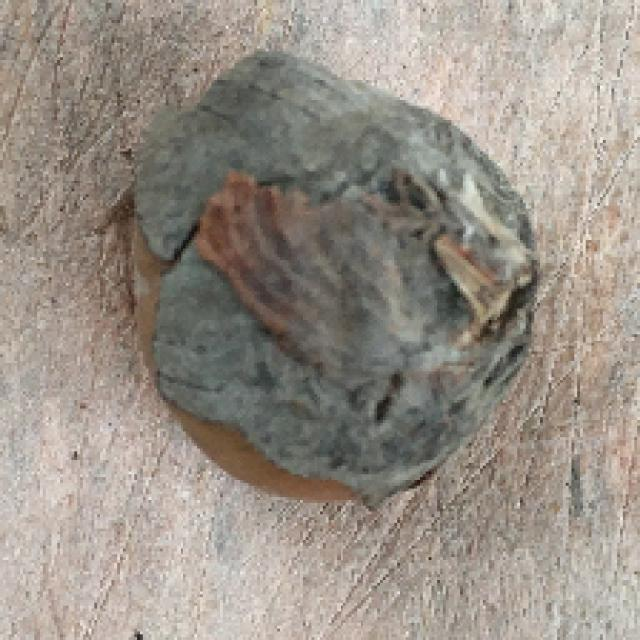damagedHazelnut: (114, 44, 544, 515)
